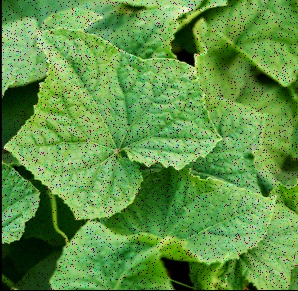cucumber_plant: (12, 24, 276, 290)
